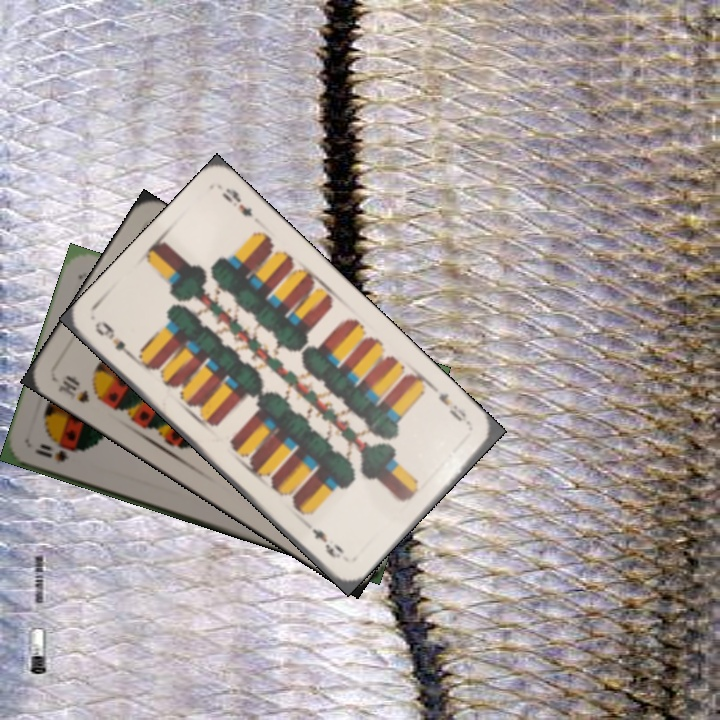E9: (90, 316, 138, 363), (434, 388, 469, 424)
S10: (54, 371, 93, 406)
SO: (31, 439, 80, 465)
